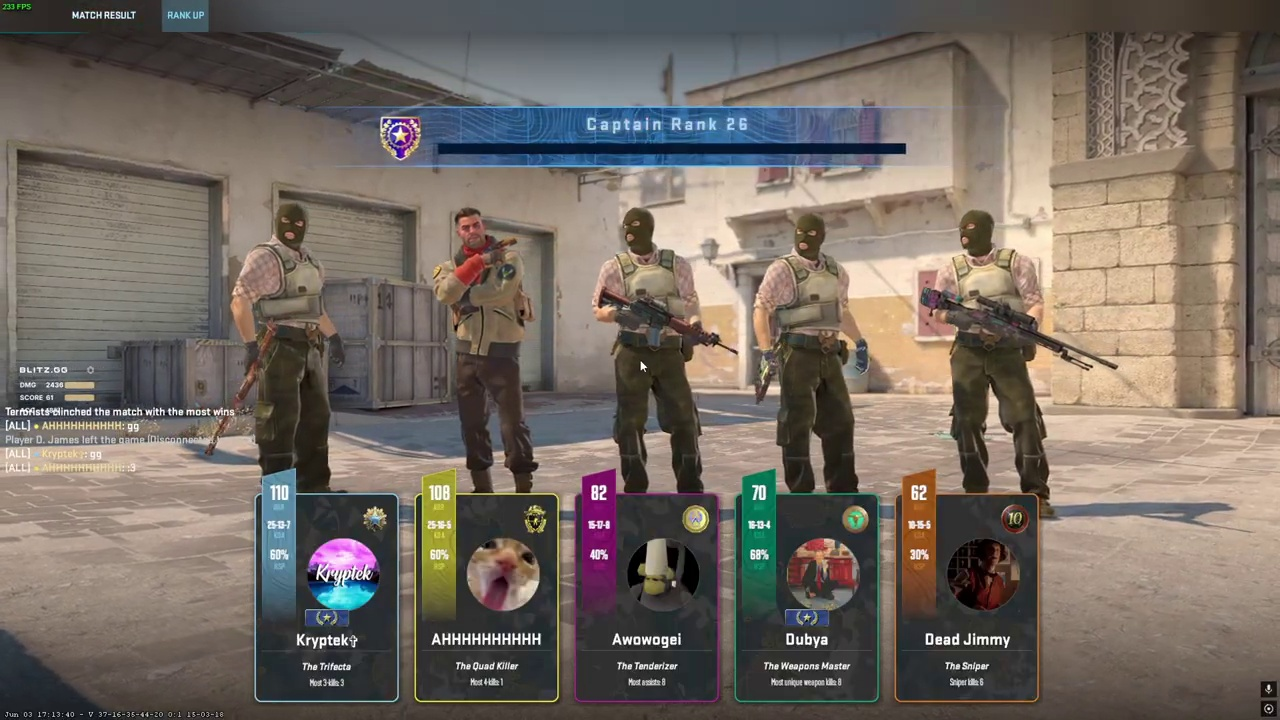Terrorist: (937, 209, 1050, 520), (238, 202, 341, 492), (601, 207, 704, 493), (761, 213, 862, 495), (442, 207, 536, 494)
